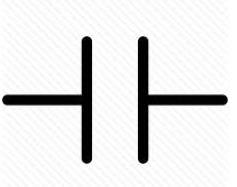Capacitor: (64, 29, 168, 174)
